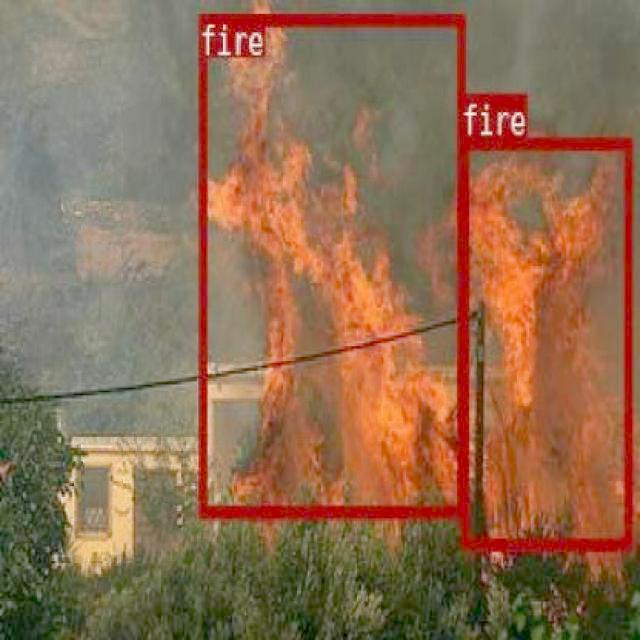fire: (198, 13, 464, 516), (460, 135, 631, 548)
